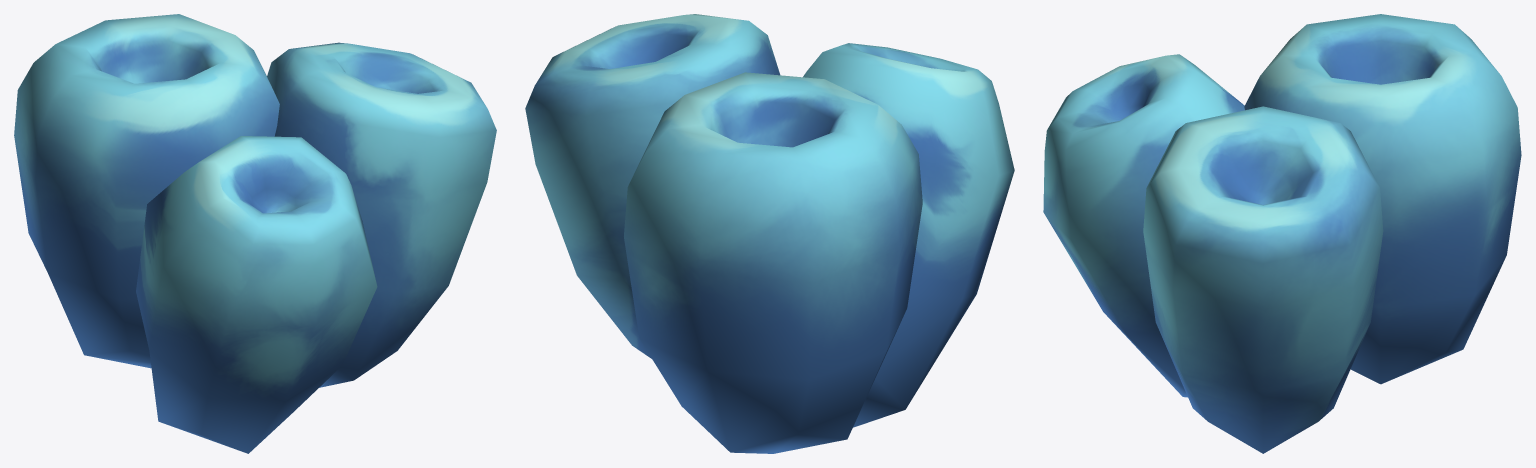
Rendered from coral_small2_mesh.fbx.
3 views of the same model, side by side, from view 1: azimuth 30°, elevation 25°; view 2: azimuth 150°, elevation 25°; view 3: azimuth 270°, elevation 25° (orthographic). The views are drawn at different scales.
Parts seen in each view (by area): view 1: low3_coral_low; view 2: low3_coral_low; view 3: low3_coral_low.
Boxes of the visible parts, left/top/right/bottom form: low3_coral_low: left=14, top=14, right=496, bottom=453; low3_coral_low: left=525, top=14, right=1014, bottom=453; low3_coral_low: left=1043, top=14, right=1521, bottom=453.
Size of the model in its own units: 0.955 by 0.7959 by 0.9874.
